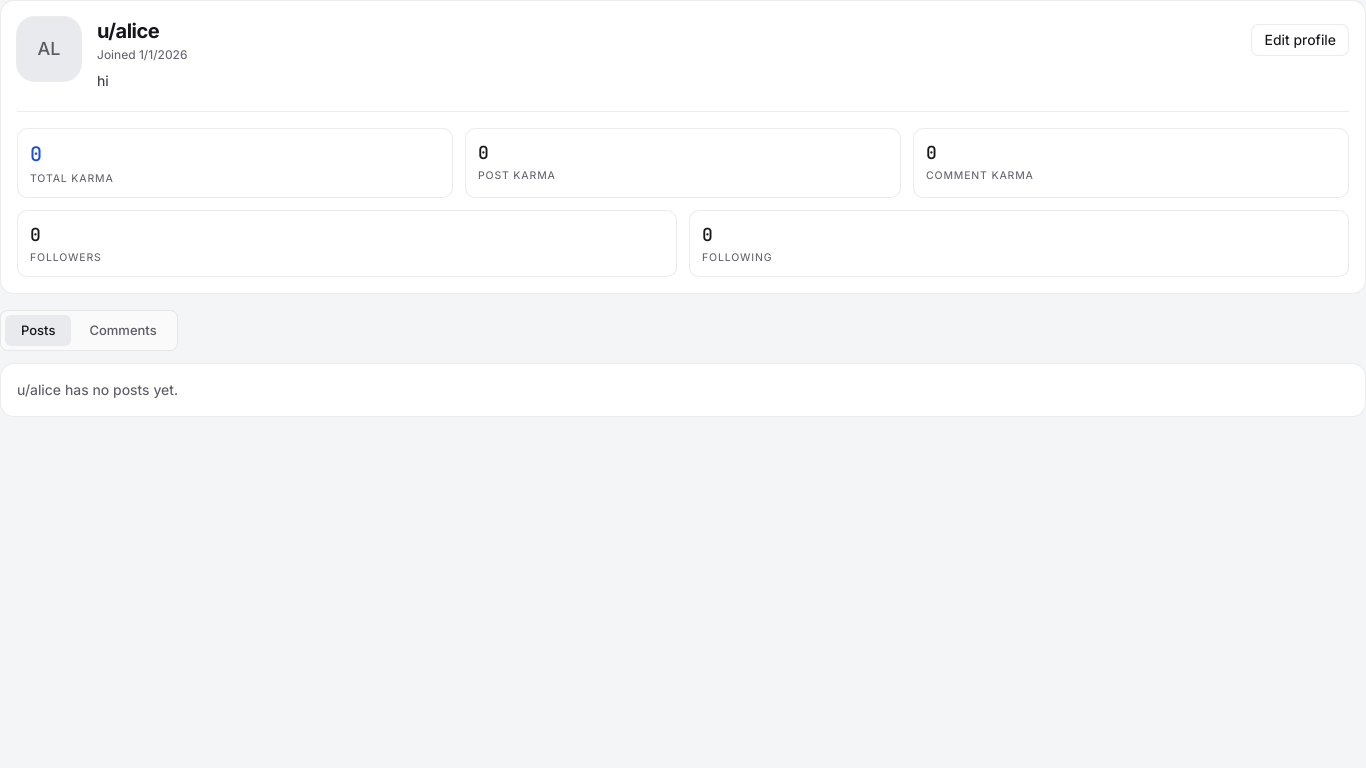
Scenario: ProfileEditModal › saves the chosen country with the profile
Click the button "Edit profile" at (1300,40), box [1252,24,1349,56]
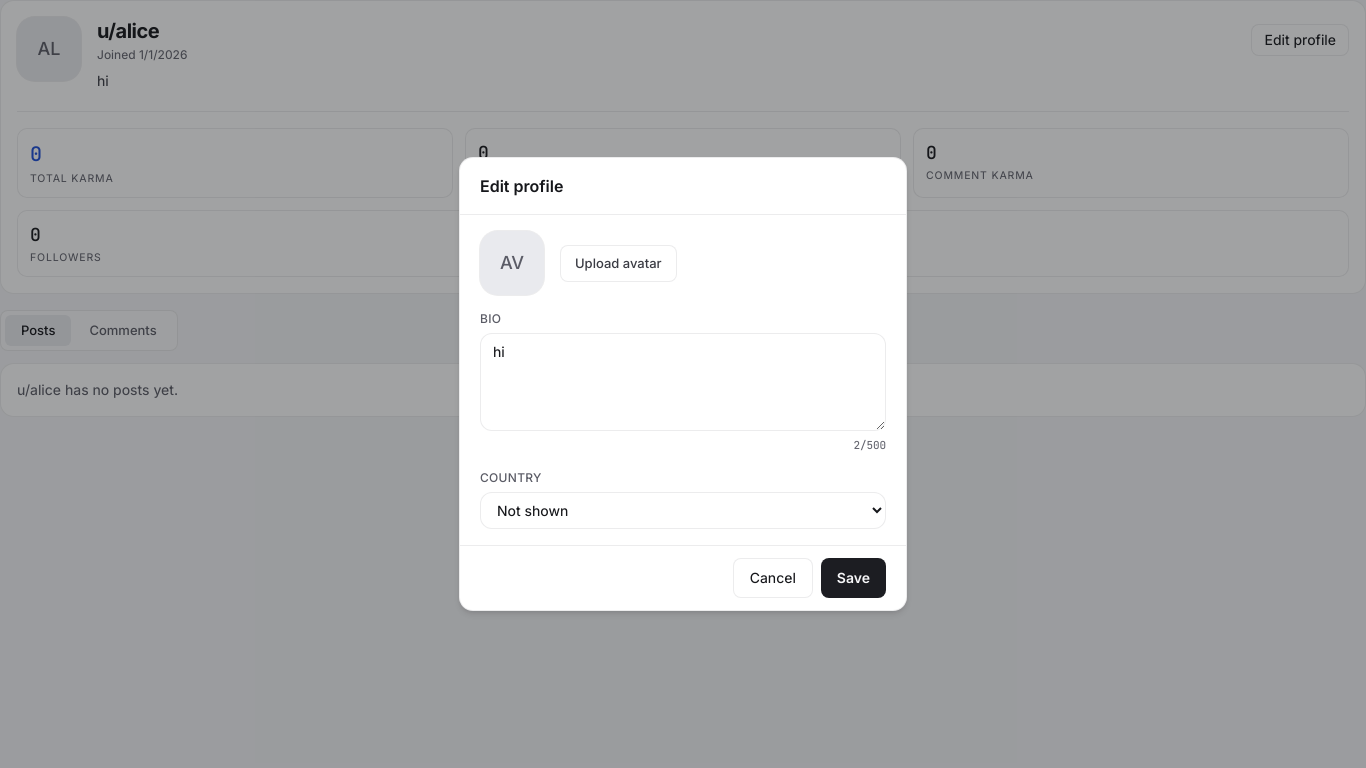
Select "🇹🇷 Türkiye" in the dropdown labelled "Country" at (683,510), box [480,492,886,529]
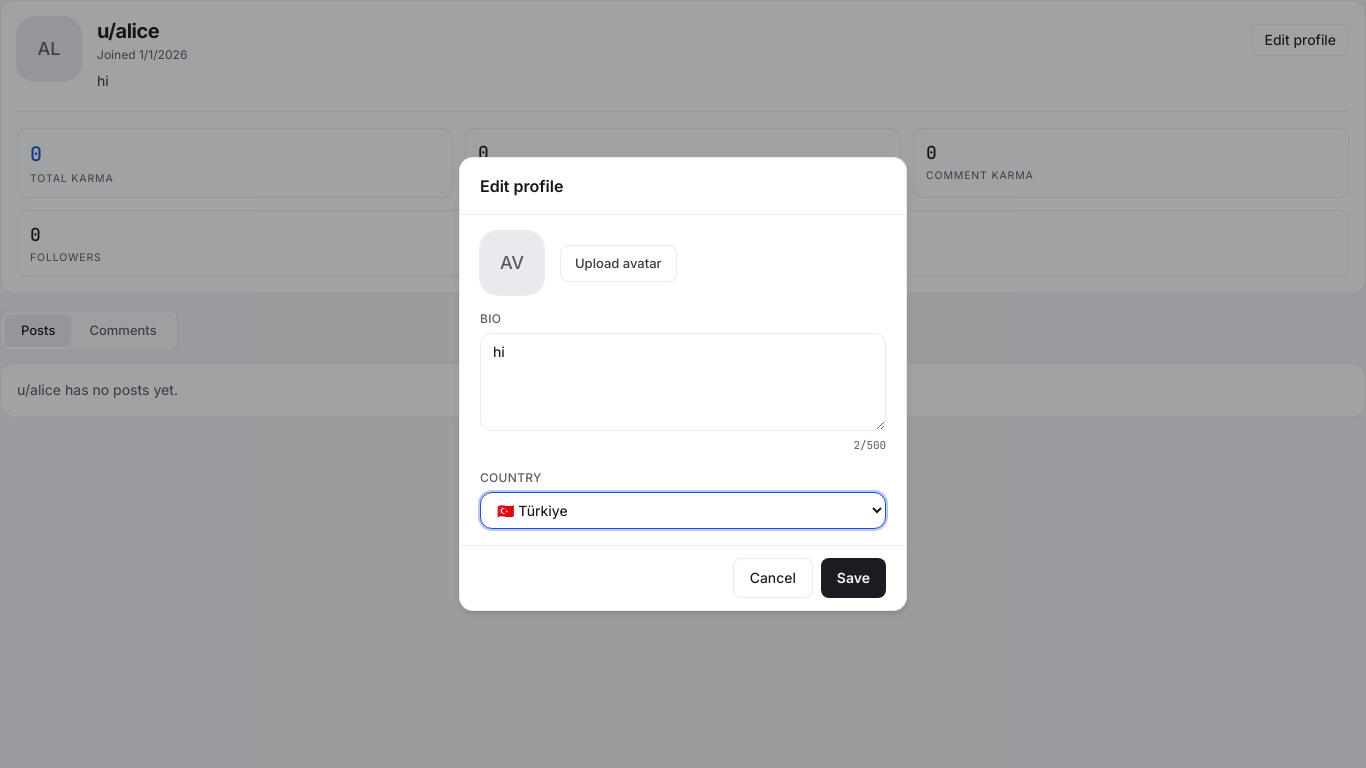
Click the button "Save" at (853,578), box [821,558,886,598]
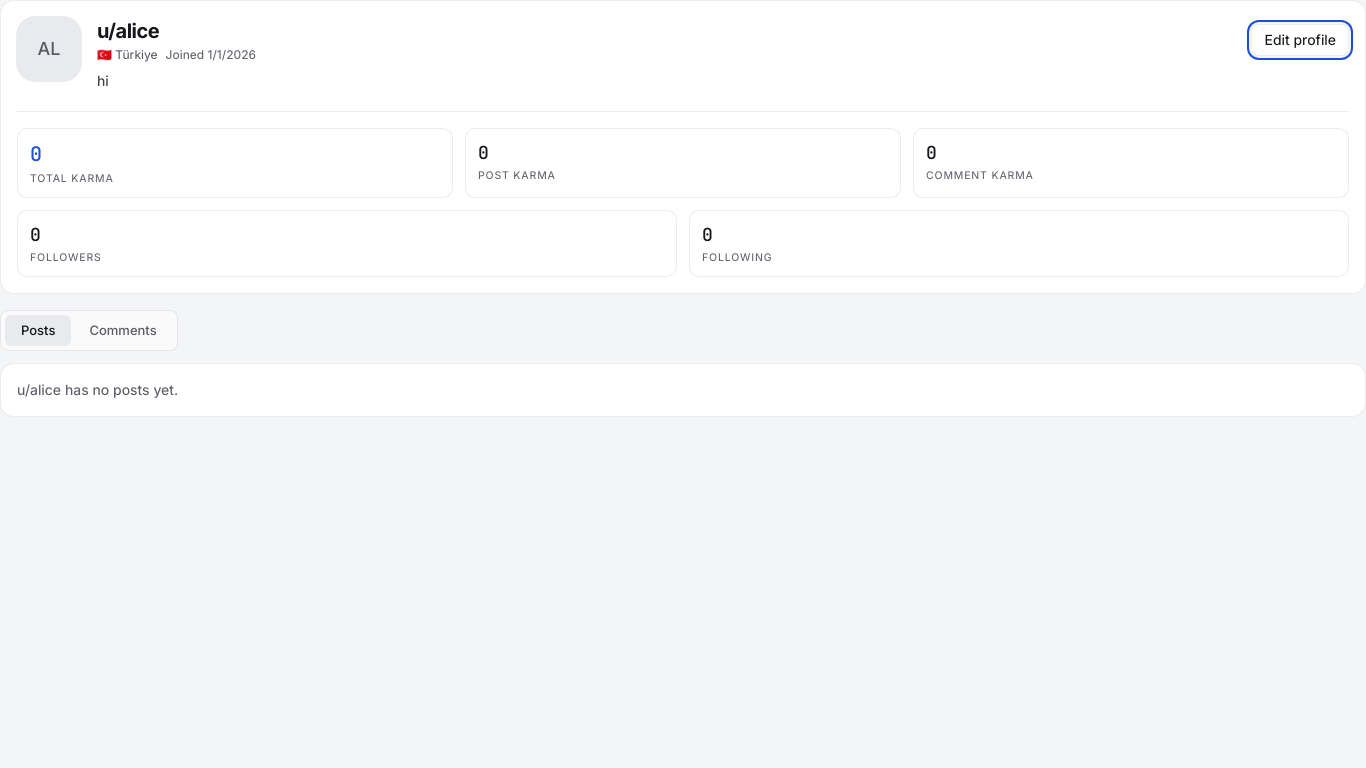
Result: the text "Türkiye" is shown at [115,47,158,62]
